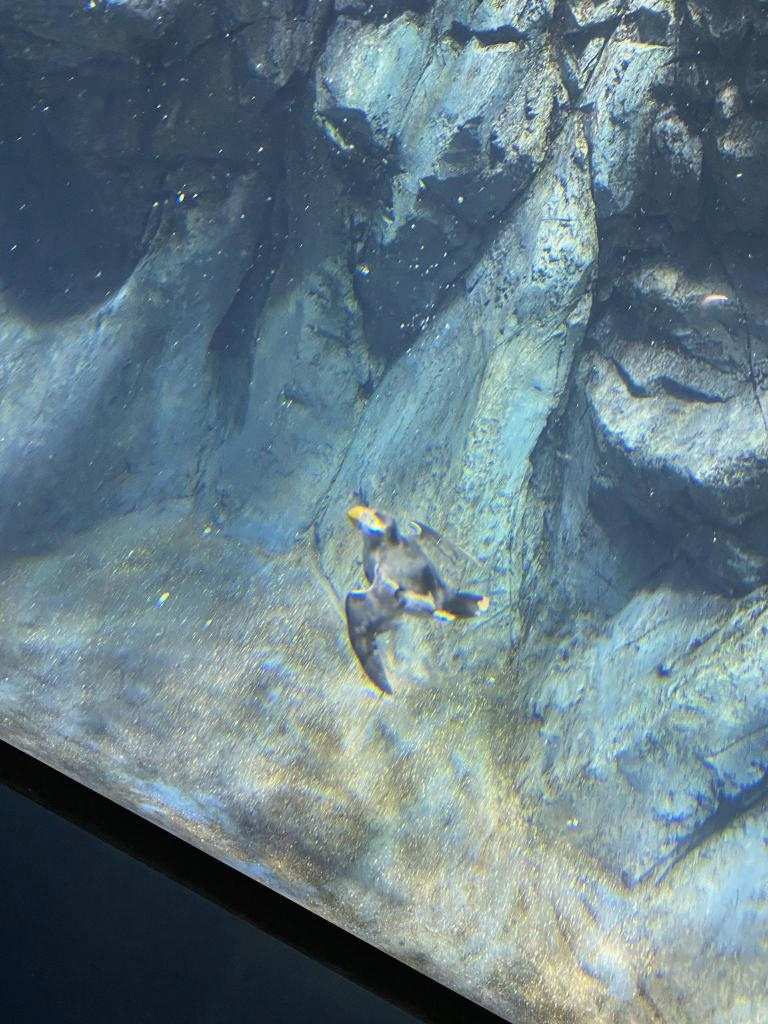fish: (432, 166, 548, 240)
puffin: (328, 494, 492, 694)
